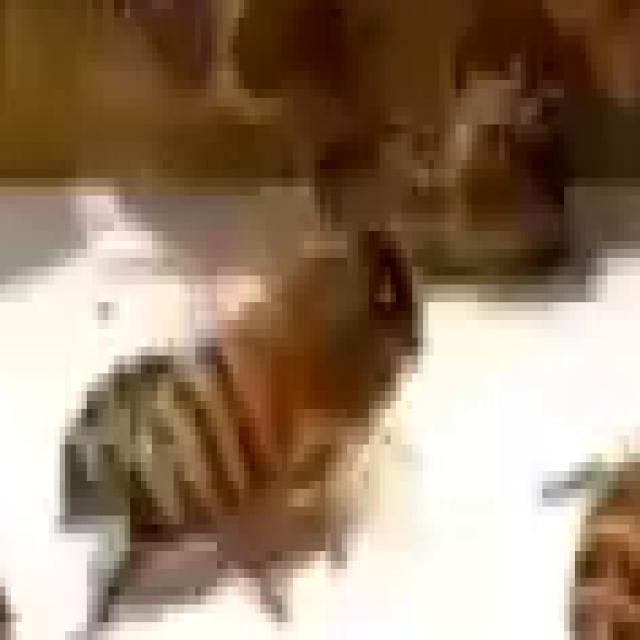honeybee: (68, 206, 434, 640), (398, 42, 600, 283), (526, 409, 640, 640)
